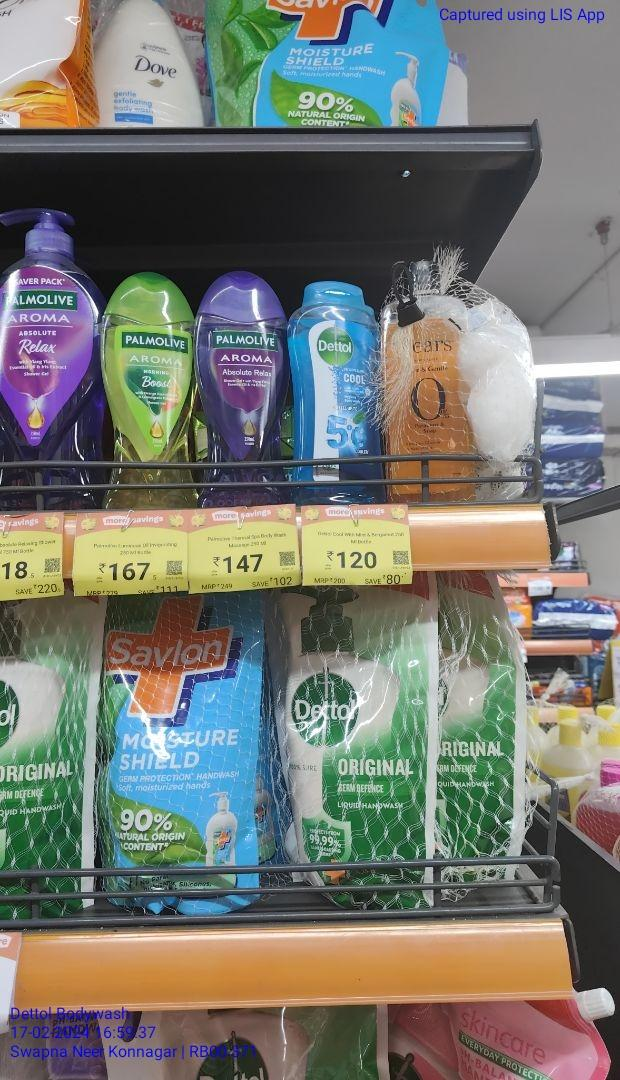Dettol_Bodywash_Cool: (300, 268, 384, 502)
Palmolive_Aroma_Morning_Tonic_Shower_Gel_250ML: (103, 272, 200, 507)
Palmolive_Aroma_Relax_250ML: (201, 268, 296, 504)
